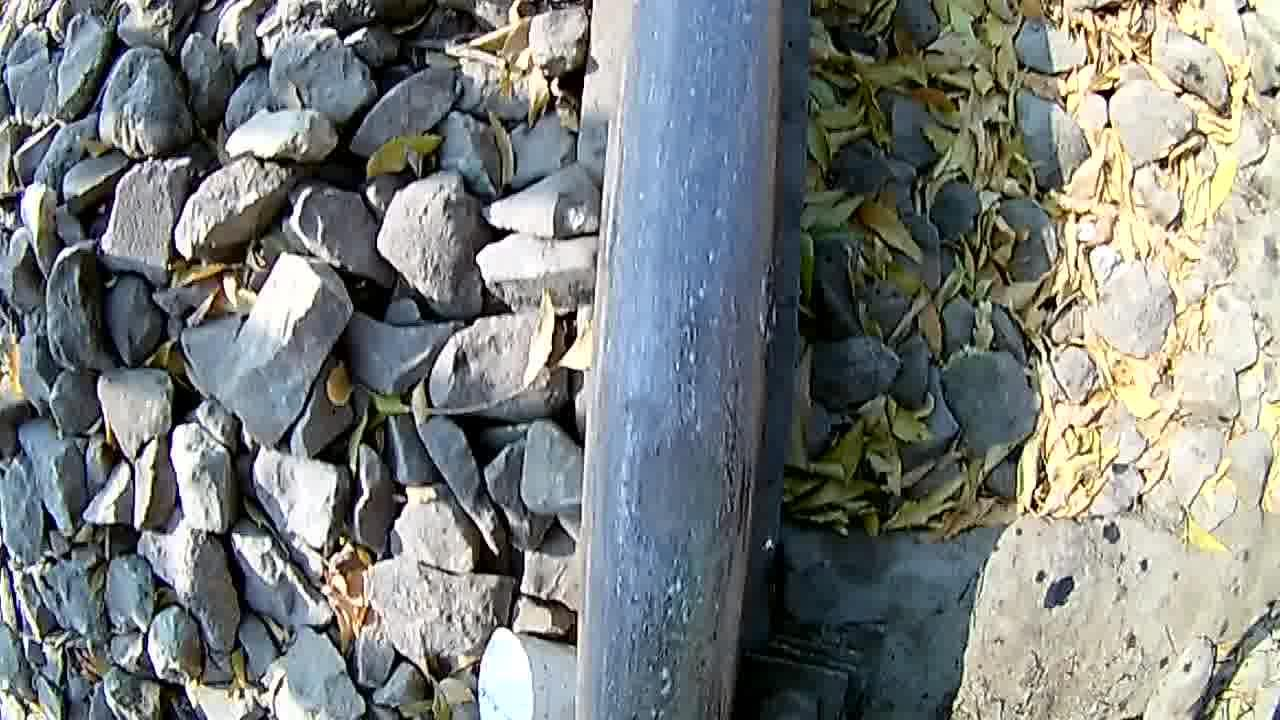bolt_missing: (576, 283, 767, 720)
